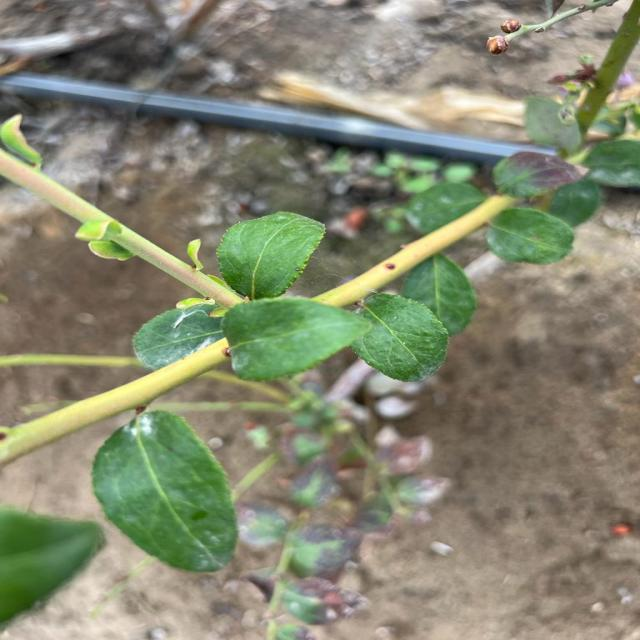Hojas con oidiosis: (121, 411, 244, 568)
